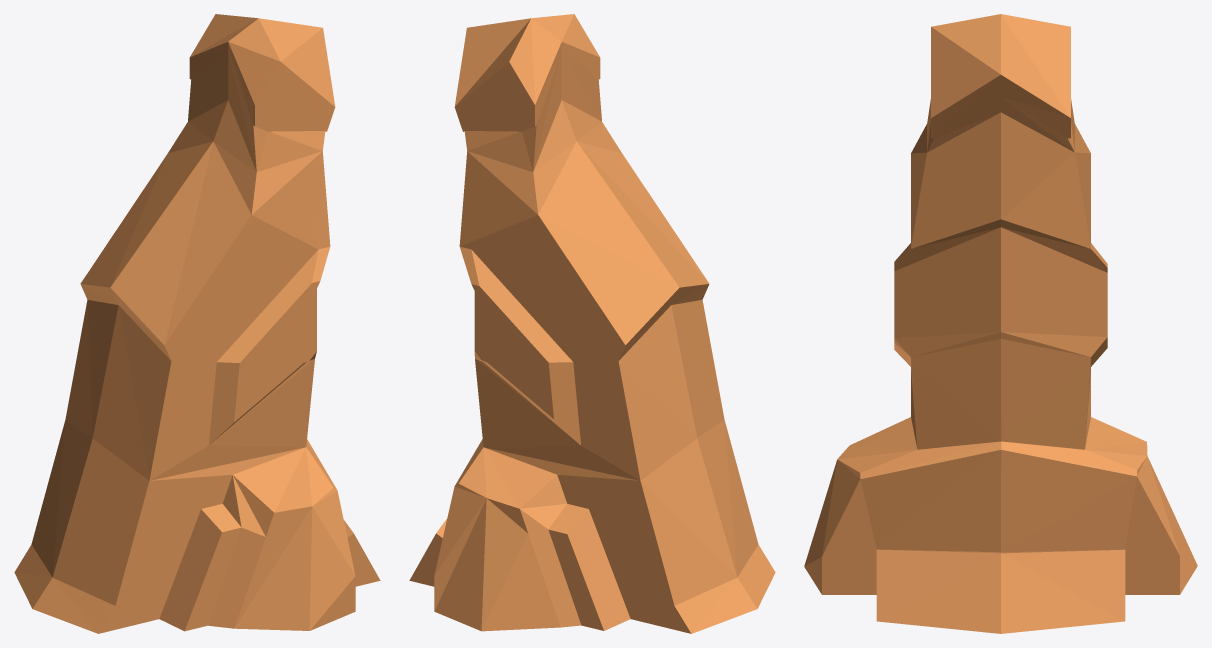
File: Rock_Large_Canyon_Eroded_21.FBX
3 renders of one model, left to right at view 1: azimuth 30°, elevation 25°; view 2: azimuth 150°, elevation 25°; view 3: azimuth 270°, elevation 25°, orthographic. The views are drawn at different scales.
Parts seen in each view (by area): view 1: Rock_Large_Canyon_Eroded_21; view 2: Rock_Large_Canyon_Eroded_21; view 3: Rock_Large_Canyon_Eroded_21.
Part boxes in pixels (box(x1,y1,x2,y2)): Rock_Large_Canyon_Eroded_21: box(14, 14, 380, 633); Rock_Large_Canyon_Eroded_21: box(409, 14, 775, 633); Rock_Large_Canyon_Eroded_21: box(804, 14, 1197, 633).
Bounding box in the file's own units: 7579 × 12345 × 7674.
